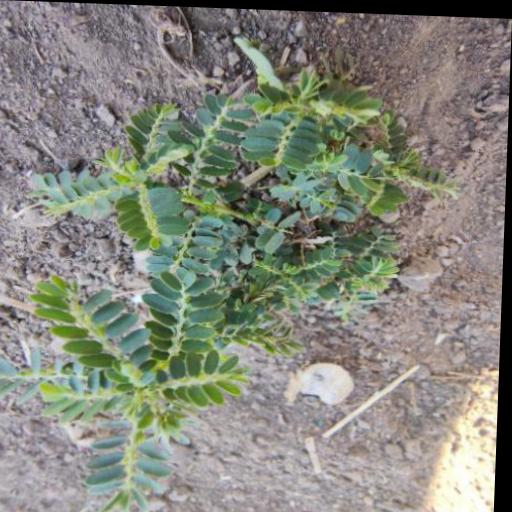weed: (0, 58, 452, 512)
